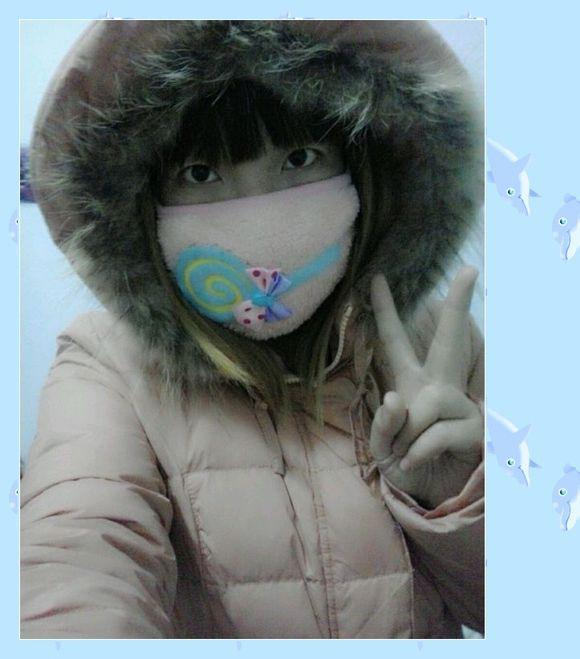OK: (163, 133, 358, 328)
